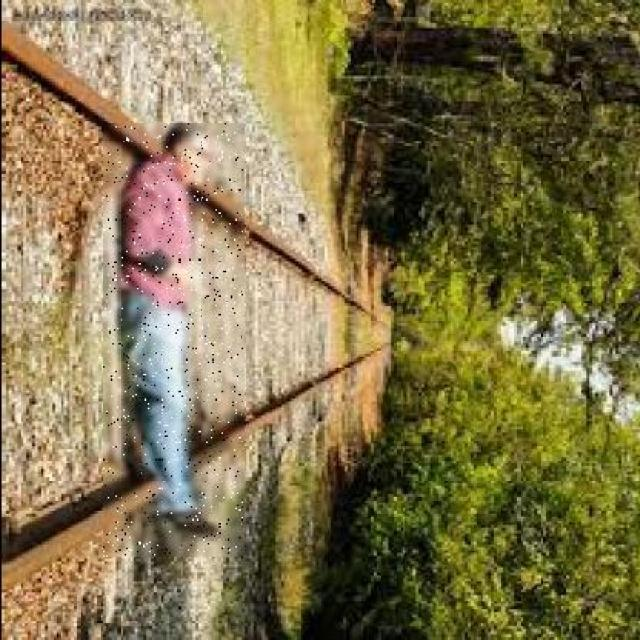danger: (102, 123, 241, 557)
rail: (2, 6, 402, 594)
